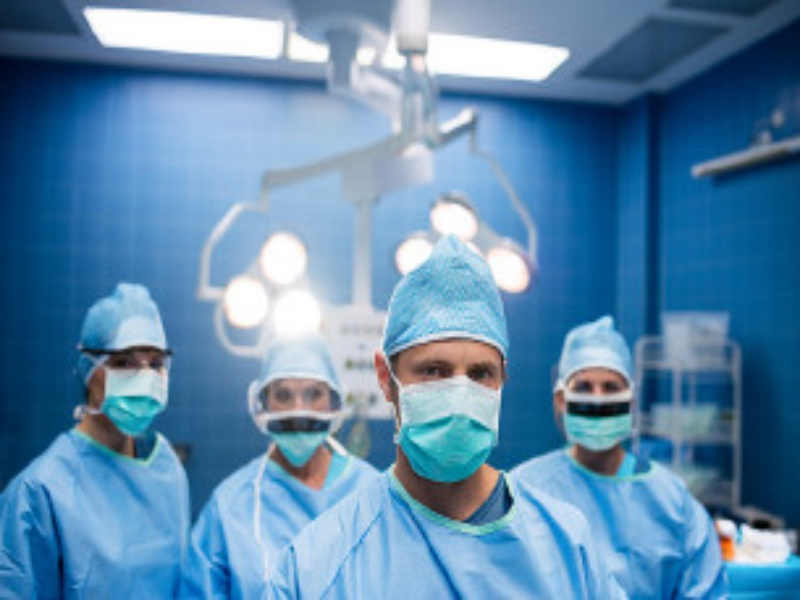mask: (370, 234, 517, 484), (67, 285, 183, 452), (243, 337, 350, 466), (551, 317, 645, 458)
